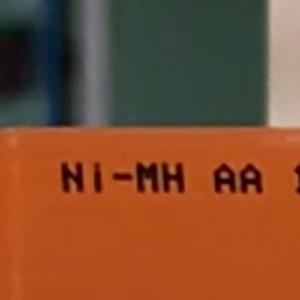keyword: (51, 153, 194, 202)
